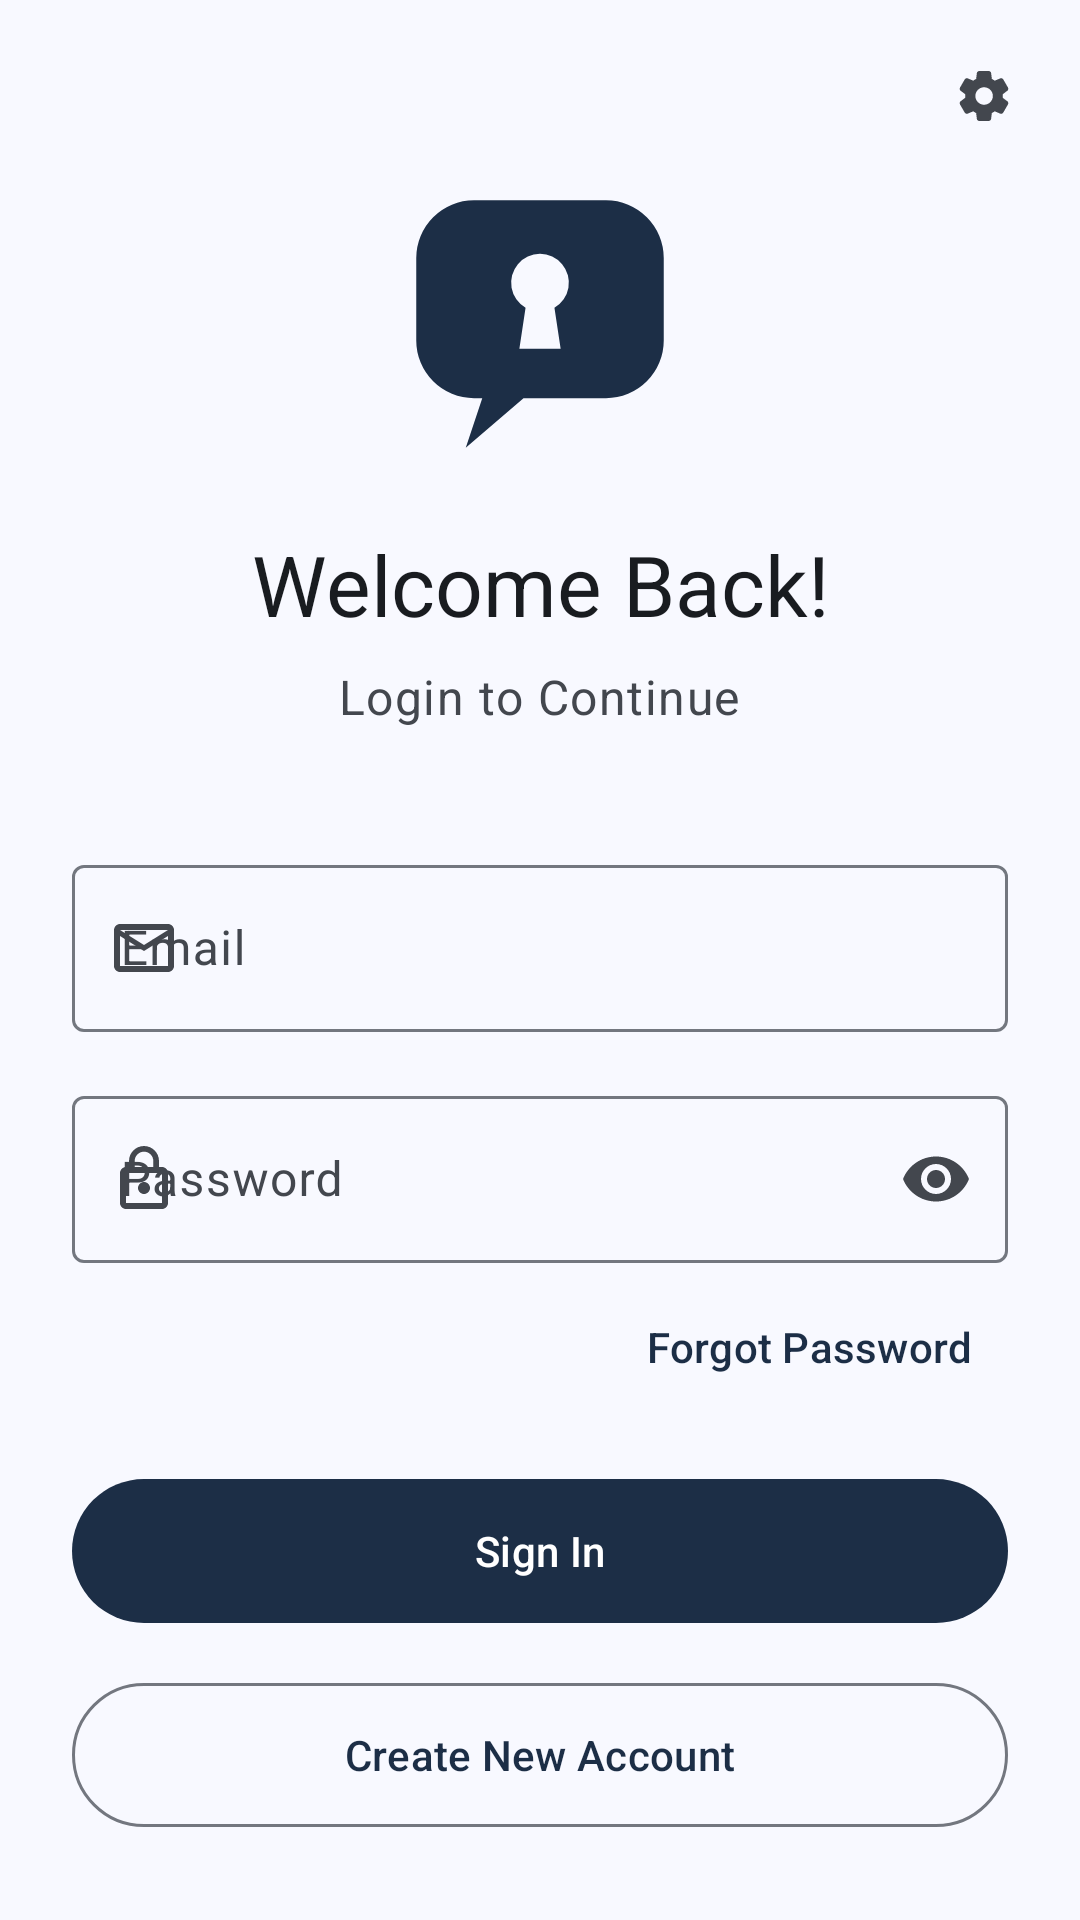

Named icons in this screenshot (1080w x 1920h) and their bounding boxes, BBox(x1, y1, x2, y2):
Settings: BBox(959, 71, 1009, 121)
